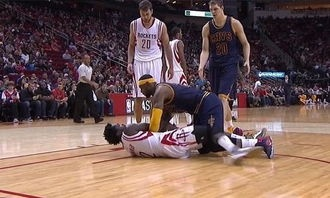falling: (131, 72, 237, 128)
